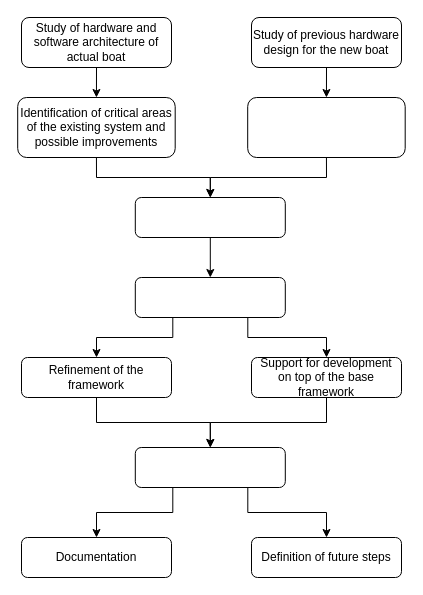
Image size: 423x595. Some labels were removed from this diagram. The shapes that lost their labels are listed below. From the top down, each one's box as (x1, y1, x2, y2) in pixels, then its label:
(247, 96, 405, 158): Definition of requirements of the new system
(134, 196, 285, 238): New software architecture proposal
(134, 276, 285, 318): Development of a Proof of Concept
(134, 446, 285, 488): Test of the system
